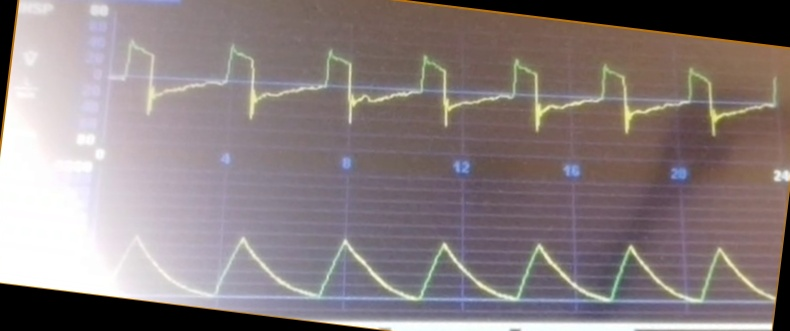Premature_cycling Flow: (114, 35, 780, 145)
Premature_cycling Volume: (102, 227, 772, 309)
